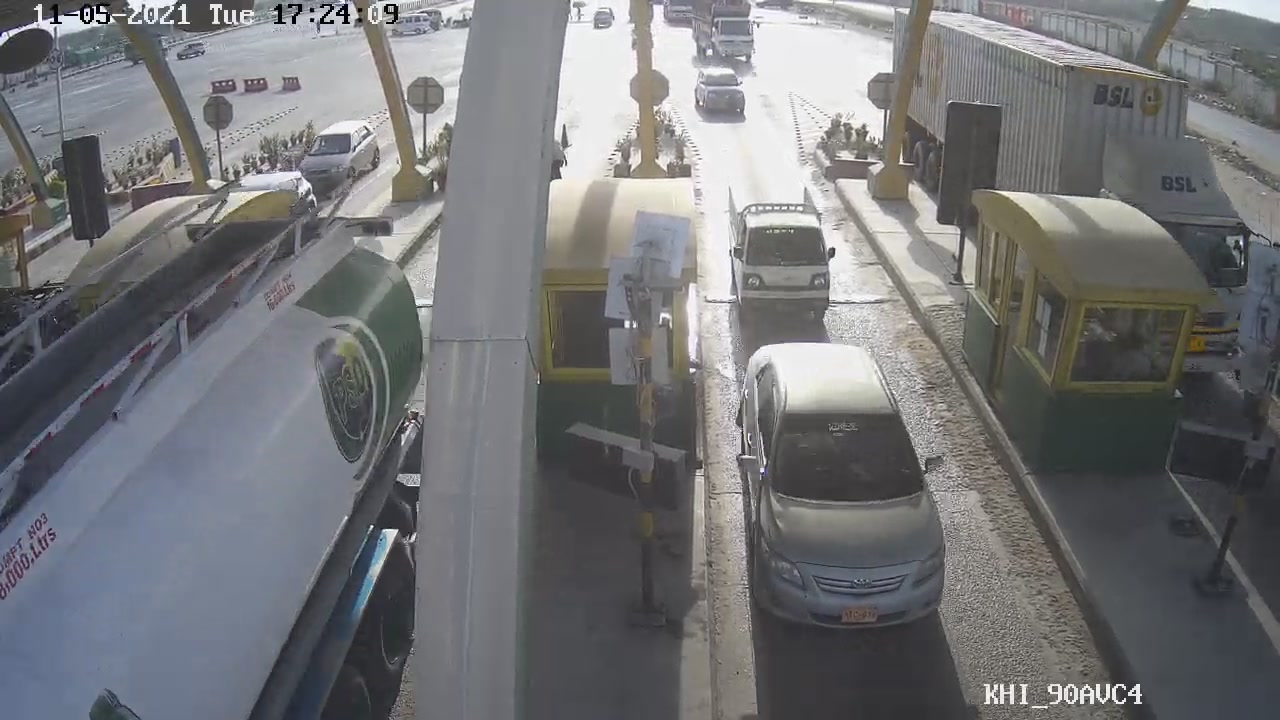F1: (728, 336, 954, 635), (717, 180, 843, 321)
